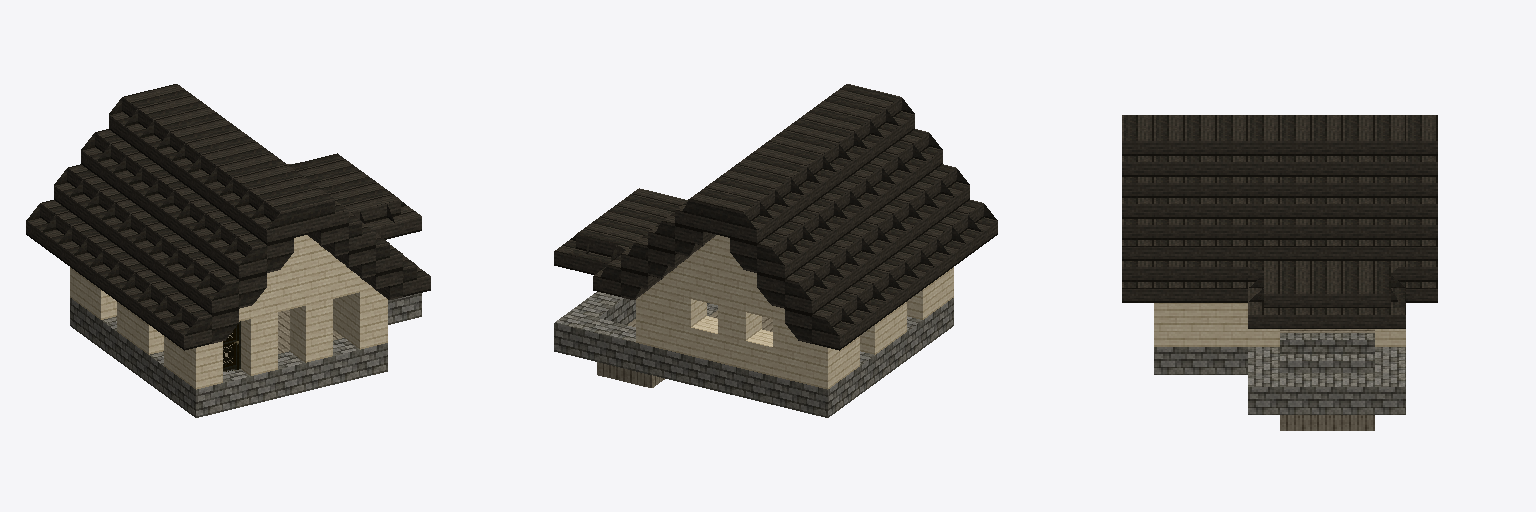
The picture shows the model from 3 angles: view 1: azimuth 30°, elevation 25°; view 2: azimuth 150°, elevation 25°; view 3: azimuth 270°, elevation 25°; orthographic projection.
Visible parts, largest first — view 1: Cube.159_Cube.214, Cube.169_Cube.224, Cube.143_Cube.198, Cube.142_Cube.197, Cube.090_Cube.125, Cube.036_Cube.065, Cube.072_Cube.107, Cube.084_Cube.119, Cube.193_Cube.248, Cube.085_Cube.120, Cube.033_Cube.062, Cube.031_Cube.060 (+28 smaller); view 2: Cube.141_Cube.196, Cube.168_Cube.223, Cube.178_Cube.233, Cube.152_Cube.207, Cube.043_Cube.072, Cube.107_Cube.148, Cube.052_Cube.081, Cube.051_Cube.080, Cube.192_Cube.247, Cube.115_Cube.160, Cube.117_Cube.162, Cube.093_Cube.152 (+28 smaller); view 3: Cube.053_Cube.082, Cube.055_Cube.084, Cube.056_Cube.085, Cube.202_Cube.257, Cube.203_Cube.259, Cube.204_Cube.260, Cube.205_Cube.261, Cube.210_Cube.266, Cube.211_Cube.267, Cube.212_Cube.268, Cube.213_Cube.269, Cube.218_Cube.274 (+28 smaller).
Part boxes in pixels (bbox=[...]): Cube.159_Cube.214: bbox=[223, 233, 266, 279]; Cube.169_Cube.224: bbox=[251, 198, 293, 244]; Cube.143_Cube.198: bbox=[196, 268, 238, 314]; Cube.142_Cube.197: bbox=[169, 304, 211, 350]; Cube.090_Cube.125: bbox=[344, 309, 387, 349]; Cube.036_Cube.065: bbox=[180, 378, 222, 417]; Cube.072_Cube.107: bbox=[180, 350, 222, 389]; Cube.084_Cube.119: bbox=[290, 323, 332, 362]; Cube.193_Cube.248: bbox=[279, 191, 320, 237]; Cube.085_Cube.120: bbox=[290, 299, 332, 333]; Cube.033_Cube.062: bbox=[278, 351, 305, 397]; Cube.031_Cube.060: bbox=[333, 338, 359, 384]; Cube.141_Cube.196: bbox=[812, 304, 854, 350]; Cube.168_Cube.223: bbox=[757, 233, 800, 279]; Cube.178_Cube.233: bbox=[730, 198, 772, 244]; Cube.152_Cube.207: bbox=[785, 268, 827, 314]; Cube.043_Cube.072: bbox=[801, 378, 843, 417]; Cube.107_Cube.148: bbox=[801, 350, 843, 389]; Cube.052_Cube.081: bbox=[554, 311, 596, 357]; Cube.051_Cube.080: bbox=[582, 318, 623, 364]; Cube.192_Cube.247: bbox=[703, 191, 744, 237]; Cube.115_Cube.160: bbox=[718, 306, 761, 340]; Cube.117_Cube.162: bbox=[664, 292, 706, 326]; Cube.093_Cube.152: bbox=[746, 329, 772, 375]; Cube.053_Cube.082: bbox=[1343, 373, 1374, 414]; Cube.055_Cube.084: bbox=[1280, 373, 1311, 414]; Cube.056_Cube.085: bbox=[1248, 373, 1279, 414]; Cube.202_Cube.257: bbox=[1122, 135, 1153, 176]; Cube.203_Cube.259: bbox=[1122, 177, 1153, 218]; Cube.204_Cube.260: bbox=[1122, 219, 1153, 260]; Cube.205_Cube.261: bbox=[1122, 261, 1153, 302]; Cube.210_Cube.266: bbox=[1185, 135, 1216, 176]; Cube.211_Cube.267: bbox=[1185, 177, 1216, 218]; Cube.212_Cube.268: bbox=[1185, 219, 1216, 260]; Cube.213_Cube.269: bbox=[1185, 261, 1216, 302]; Cube.218_Cube.274: bbox=[1248, 135, 1279, 176].
Bounding box in the file's own units: 19.8 × 14.4 × 18.
7 materials, 7 textured.